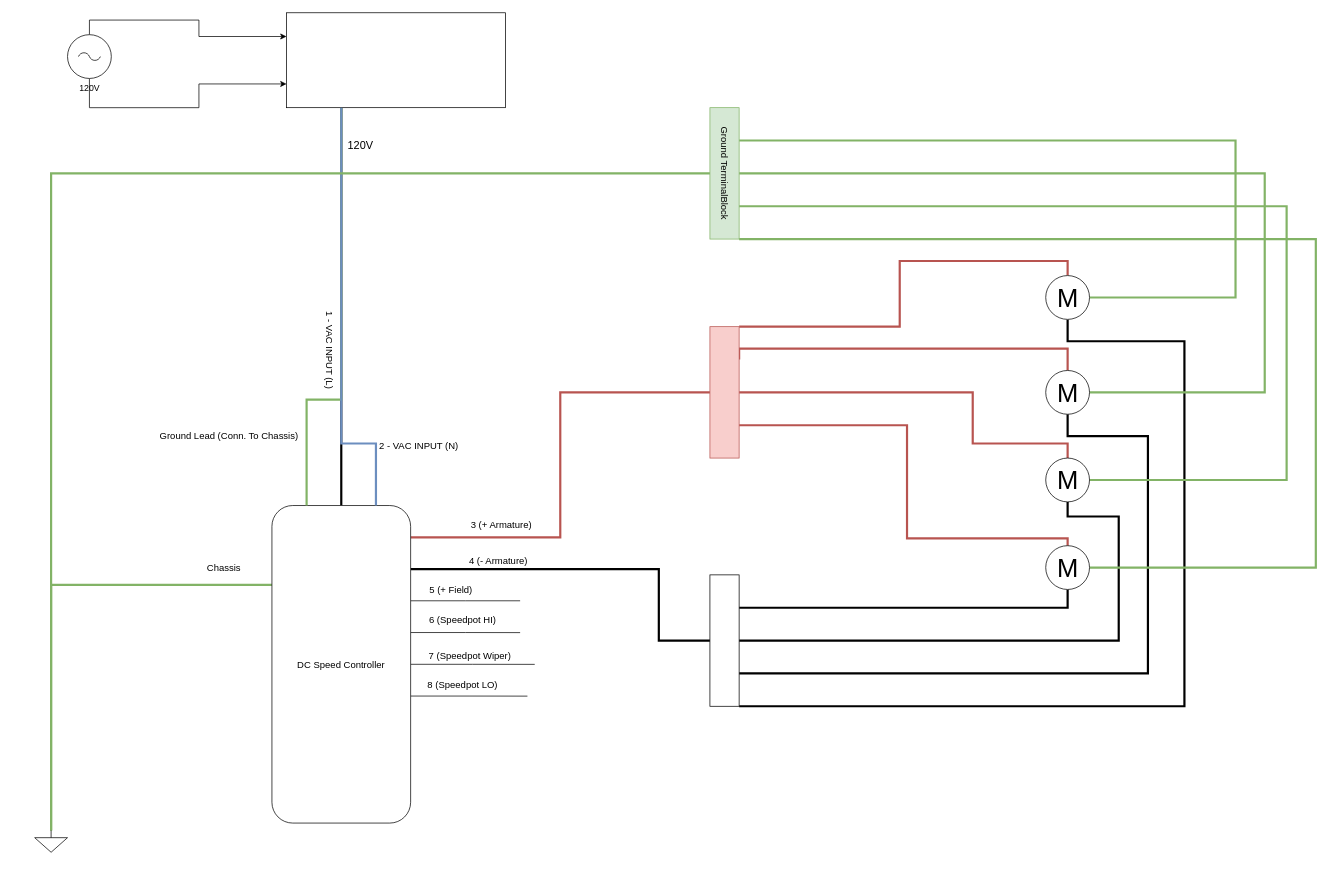
The diagram is 1330 pixels wide and 882 high, and some of its shapes have lost their labels. The shapes that lost their labels are listed below. From the top down, each one's box as (x1, y1, x2, y2) in pixels, then its label:
(286, 12, 506, 108): IoT Relay
(709, 326, 739, 458): Terminal Block (+)
(709, 574, 739, 706): Terminal Block(-)
(34, 830, 68, 852): Enclosure Ground
